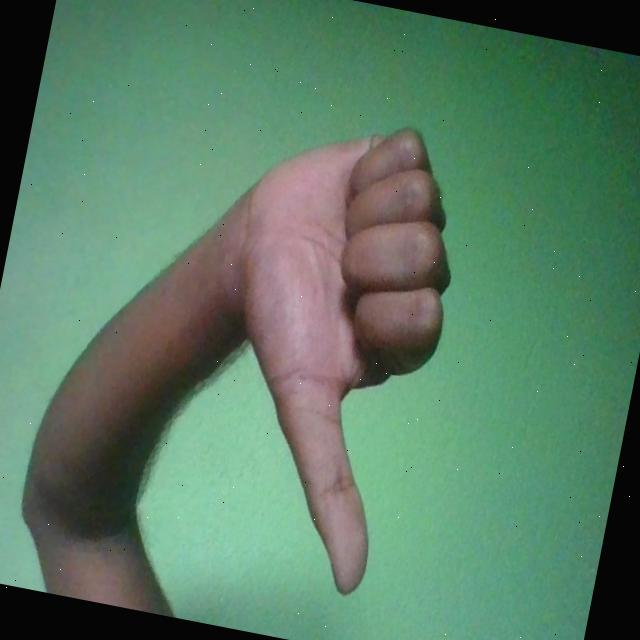Dislike: (173, 100, 478, 606)
